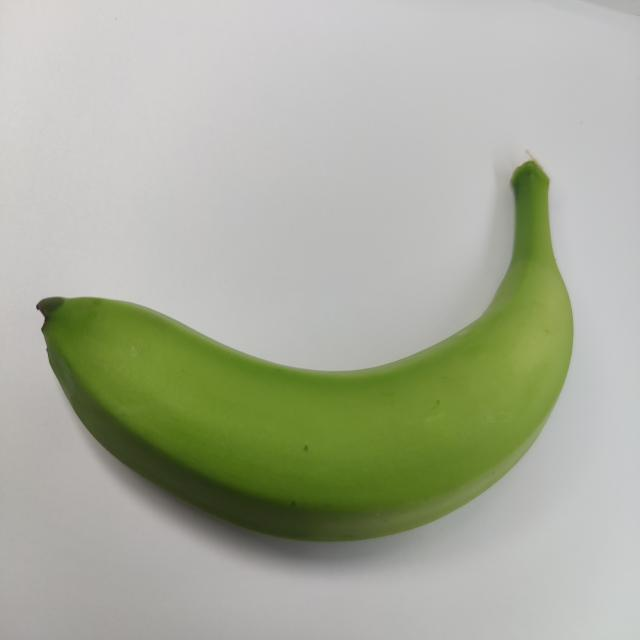raw: (21, 122, 587, 573)
